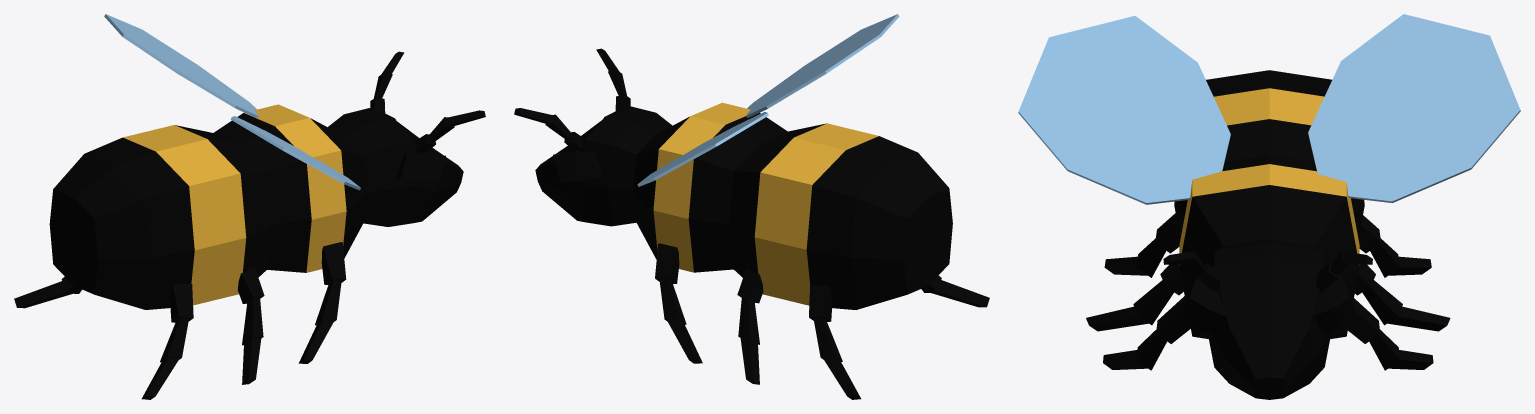
File: Chahin_Bee.fbx
3 renders of one model, left to right at view 1: azimuth 30°, elevation 25°; view 2: azimuth 150°, elevation 25°; view 3: azimuth 270°, elevation 25°, orthographic. The views are drawn at different scales.
Parts seen in each view (by area): view 1: Body, Left Wing, RightWing, RightHorn, LeftHorn; view 2: Body, RightWing, Left Wing, LeftHorn, RightHorn; view 3: Body, Left Wing, RightWing, RightHorn, LeftHorn.
Part boxes in pixels (left/top/right/bottom): Body: left=14, top=104, right=463, bottom=399; Left Wing: left=104, top=14, right=259, bottom=117; RightWing: left=230, top=116, right=360, bottom=190; RightHorn: left=415, top=110, right=485, bottom=152; LeftHorn: left=370, top=51, right=404, bottom=114; Body: left=535, top=102, right=989, bottom=399; RightWing: left=745, top=14, right=899, bottom=117; Left Wing: left=637, top=112, right=768, bottom=186; LeftHorn: left=514, top=108, right=584, bottom=150; RightHorn: left=596, top=48, right=630, bottom=111; Body: left=1086, top=70, right=1450, bottom=399; Left Wing: left=1308, top=14, right=1520, bottom=202; RightWing: left=1018, top=16, right=1230, bottom=204; RightHorn: left=1163, top=250, right=1219, bottom=292; LeftHorn: left=1316, top=250, right=1372, bottom=292.
Bounding box in the file's own units: 76.08 × 48.85 × 70.1.
